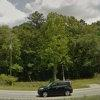Car: (30, 74, 77, 98)
